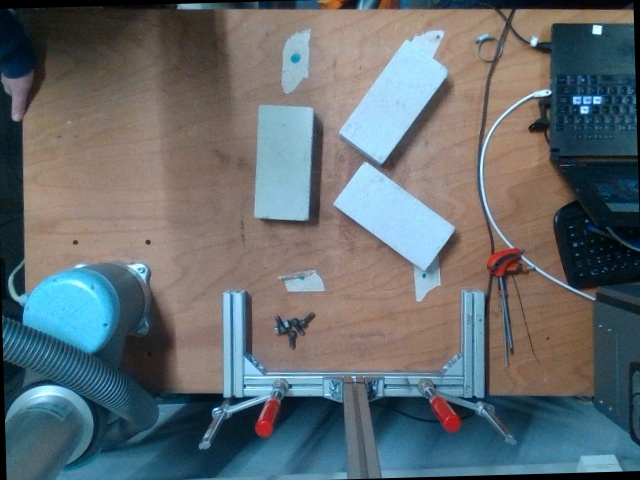brick: (337, 37, 452, 164), (334, 161, 456, 270), (256, 104, 312, 217)
